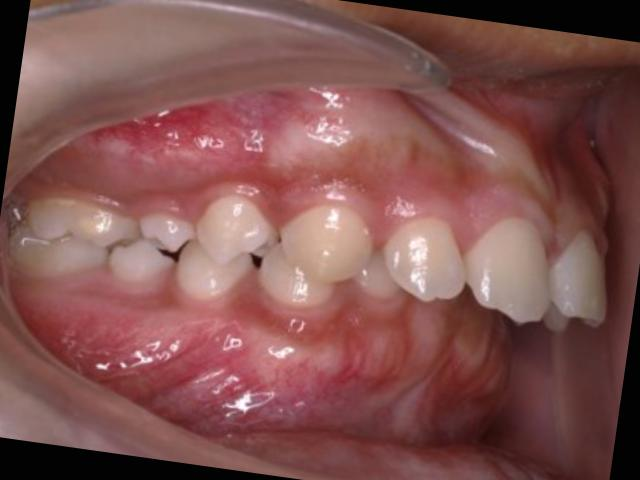canine class II 3/4: (167, 179, 372, 331)
molar class II 3/4: (0, 175, 136, 298)
